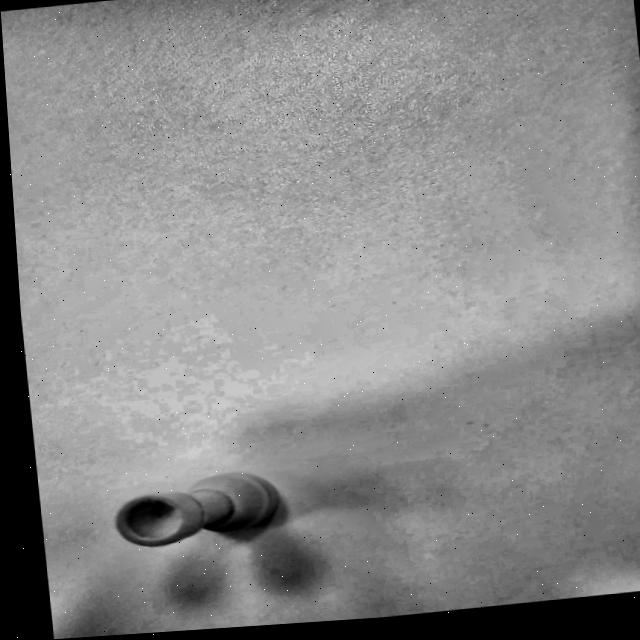white-rook: (115, 472, 306, 582)
